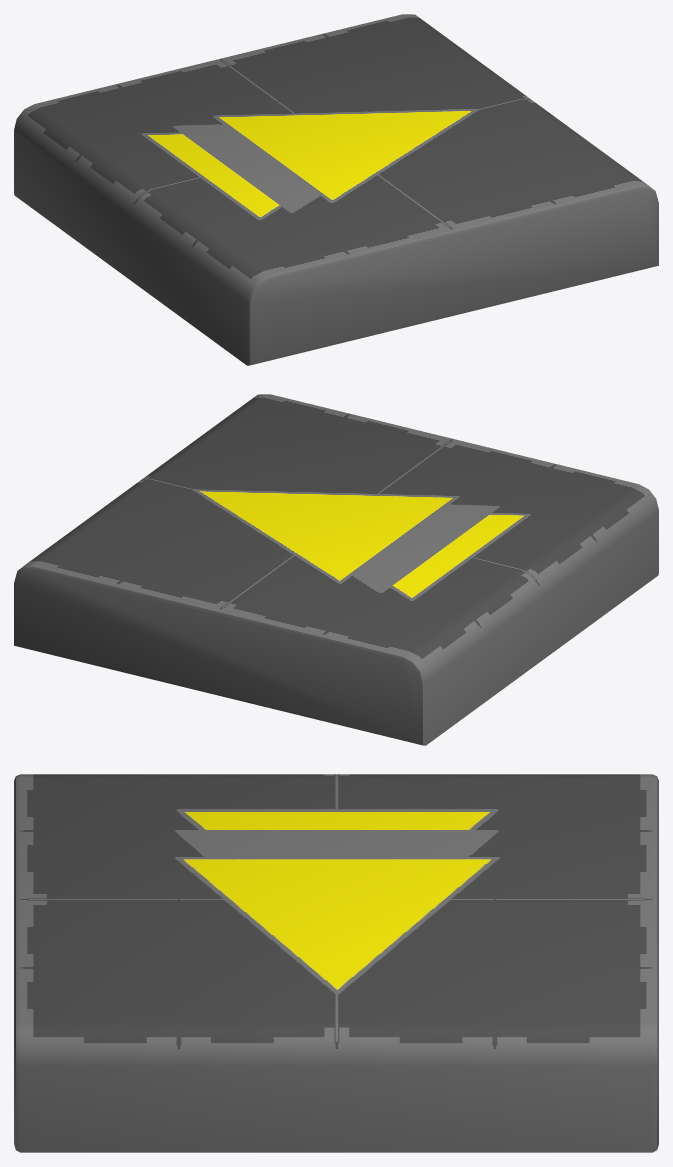
File: ConveyorSegment.fbx
The picture shows the model from 3 angles, top to bottom: view 1: azimuth 30°, elevation 25°; view 2: azimuth 150°, elevation 25°; view 3: azimuth 270°, elevation 25°; orthographic projection. The views are drawn at different scales.
Parts seen in each view (by area): view 1: Cube; view 2: Cube; view 3: Cube.
Part boxes in pixels (left/top/right/bottom): Cube: left=14, top=14, right=658, bottom=365; Cube: left=14, top=394, right=658, bottom=745; Cube: left=14, top=774, right=658, bottom=1152.
Bounding box in the file's own units: 200 × 40 × 200.
